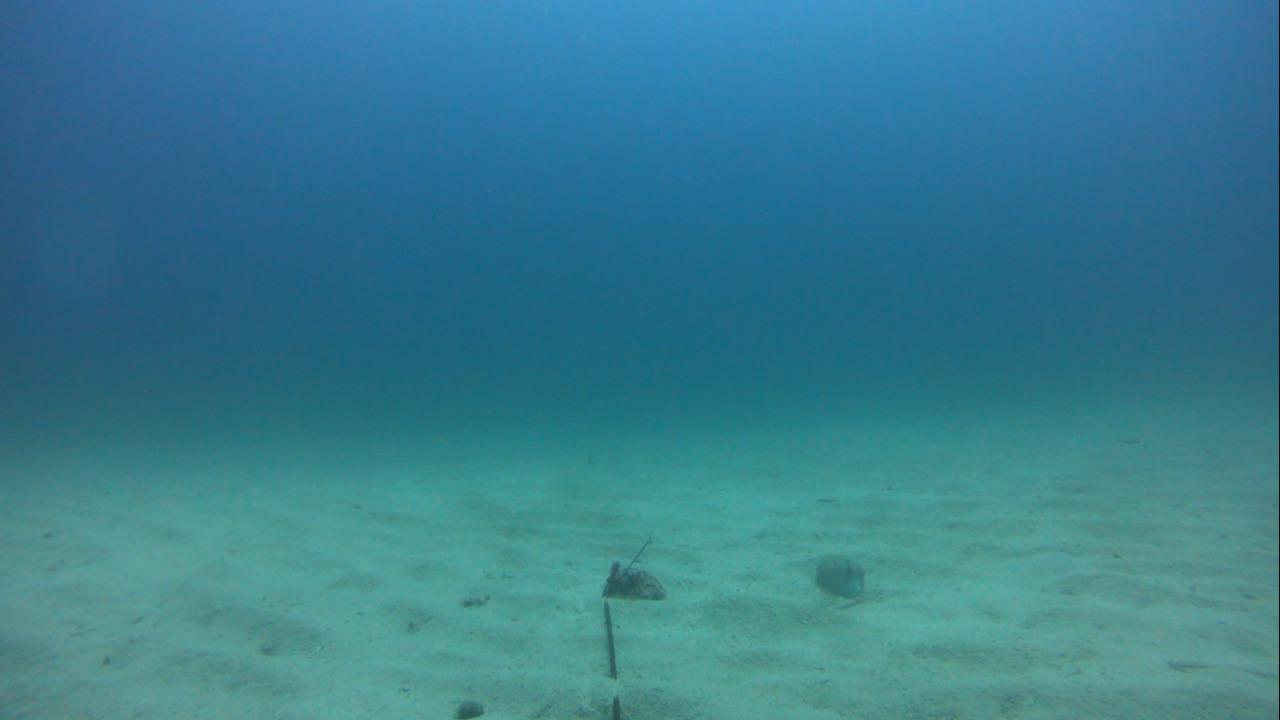raor: (806, 543, 869, 605)
